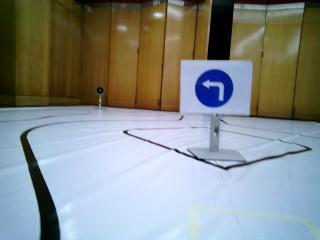left: (181, 60, 250, 113)
